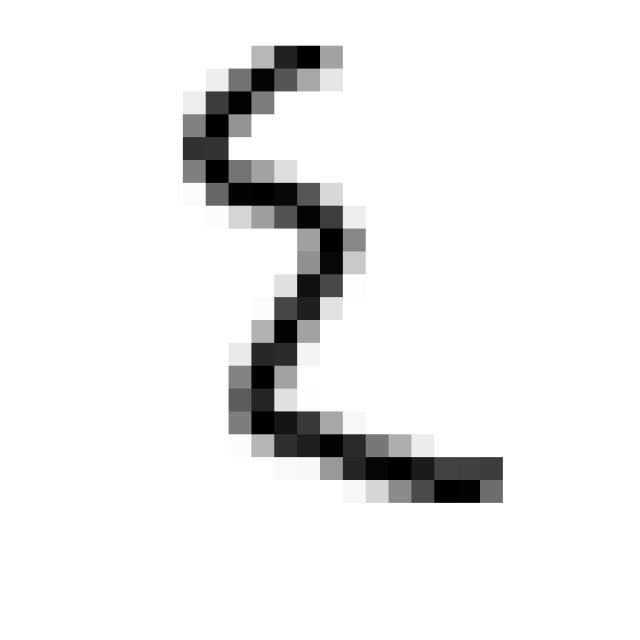4 -four-: (160, 25, 524, 523)
